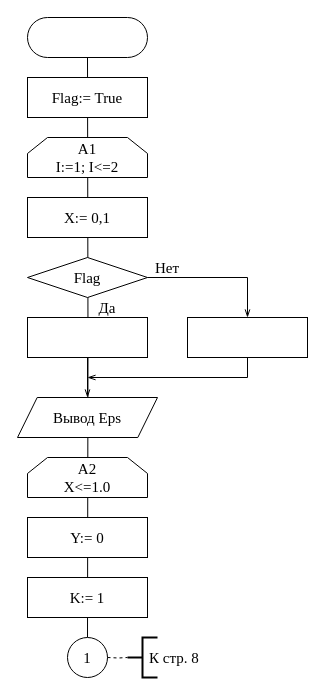
Some shapes in this 325 by 696 pixel diagram are drawn without their labels. Each missing label, with the box of its shape:
Eps:= 1 ∙ 10 -6: (186, 316, 308, 358)
Eps:=1 ∙ 10 -5: (26, 316, 148, 358)
Вход: (26, 16, 148, 58)
